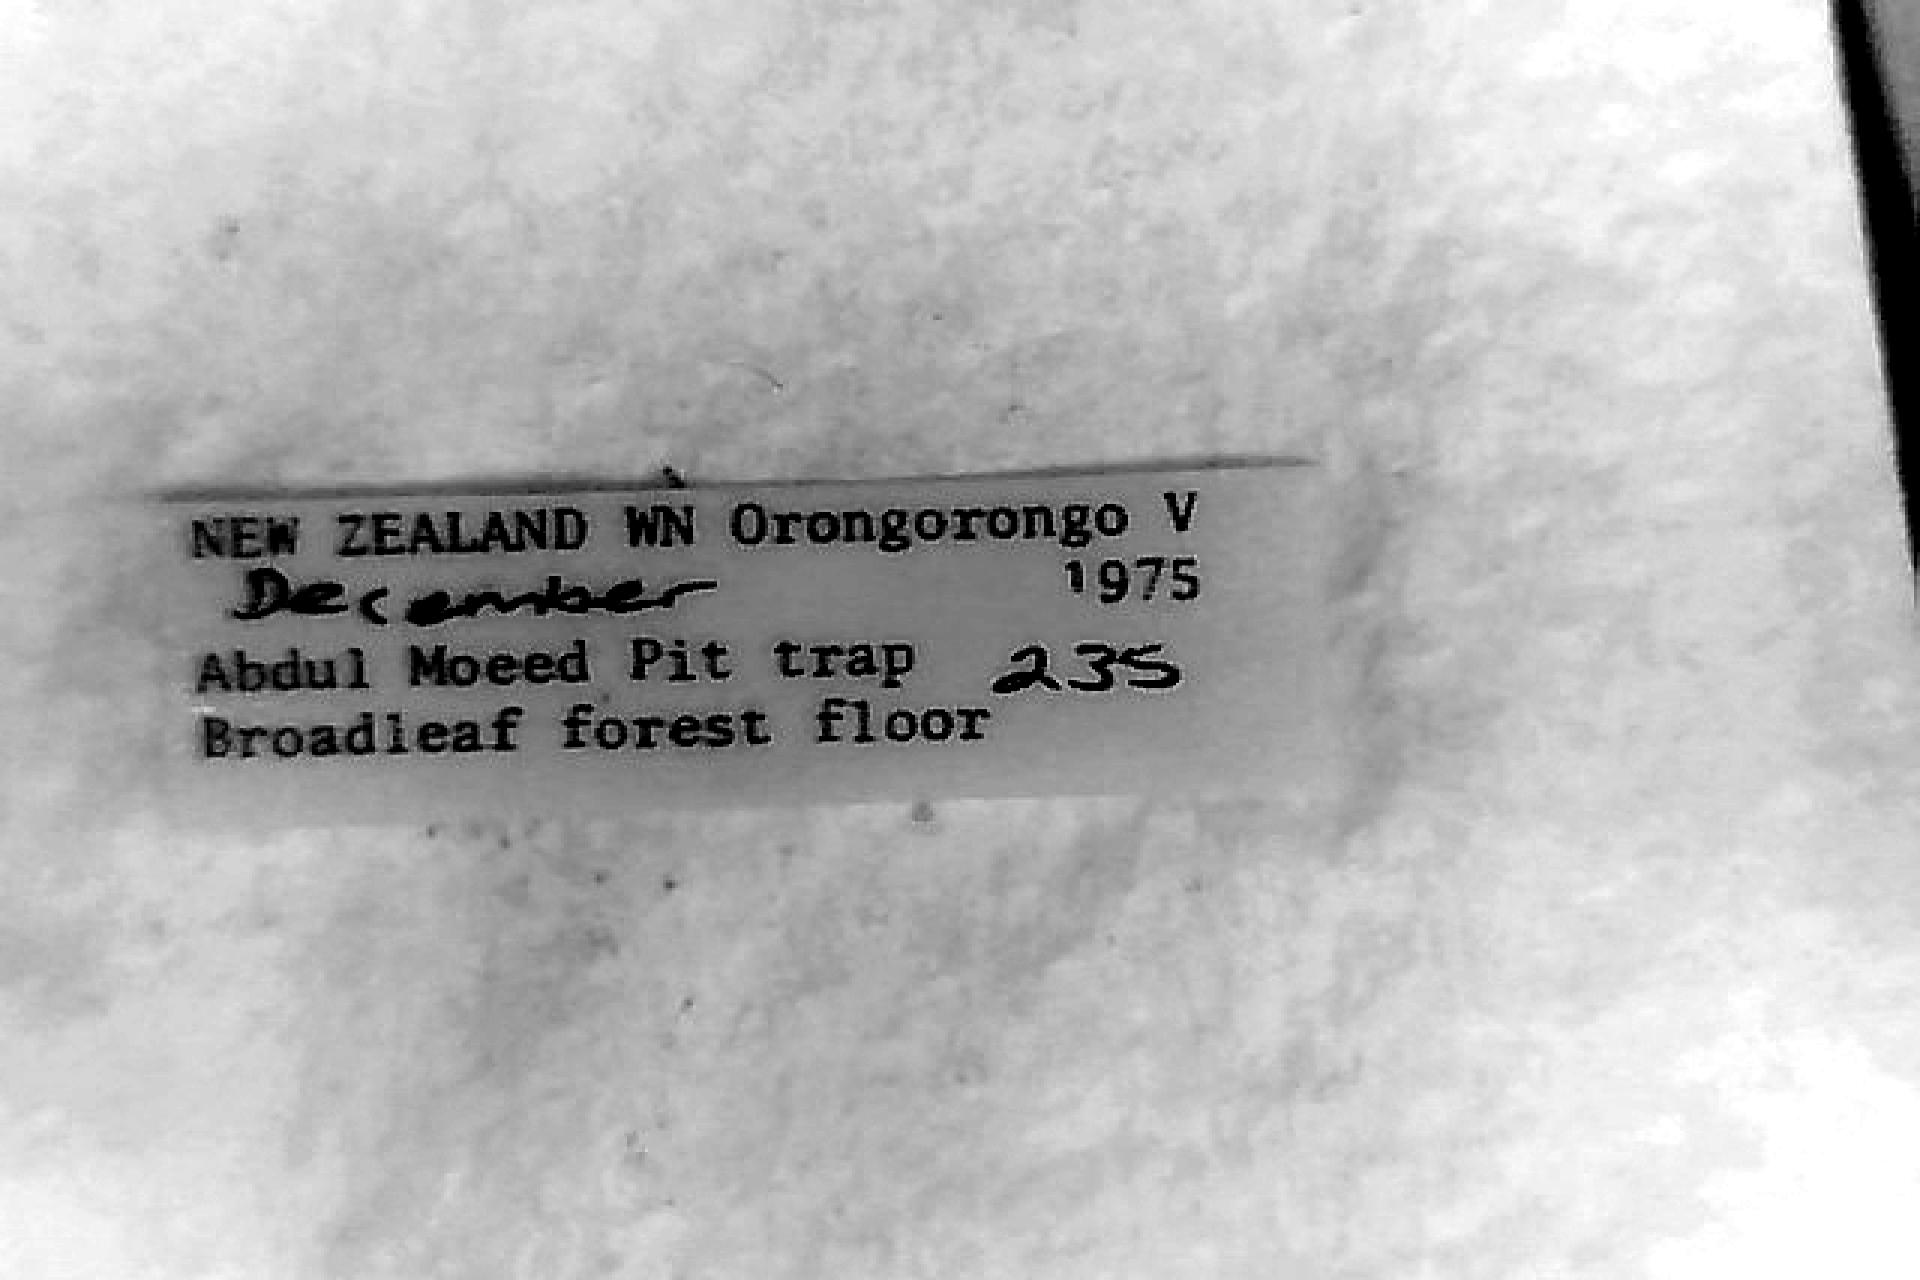mixed_label: (166, 467, 1327, 820)
